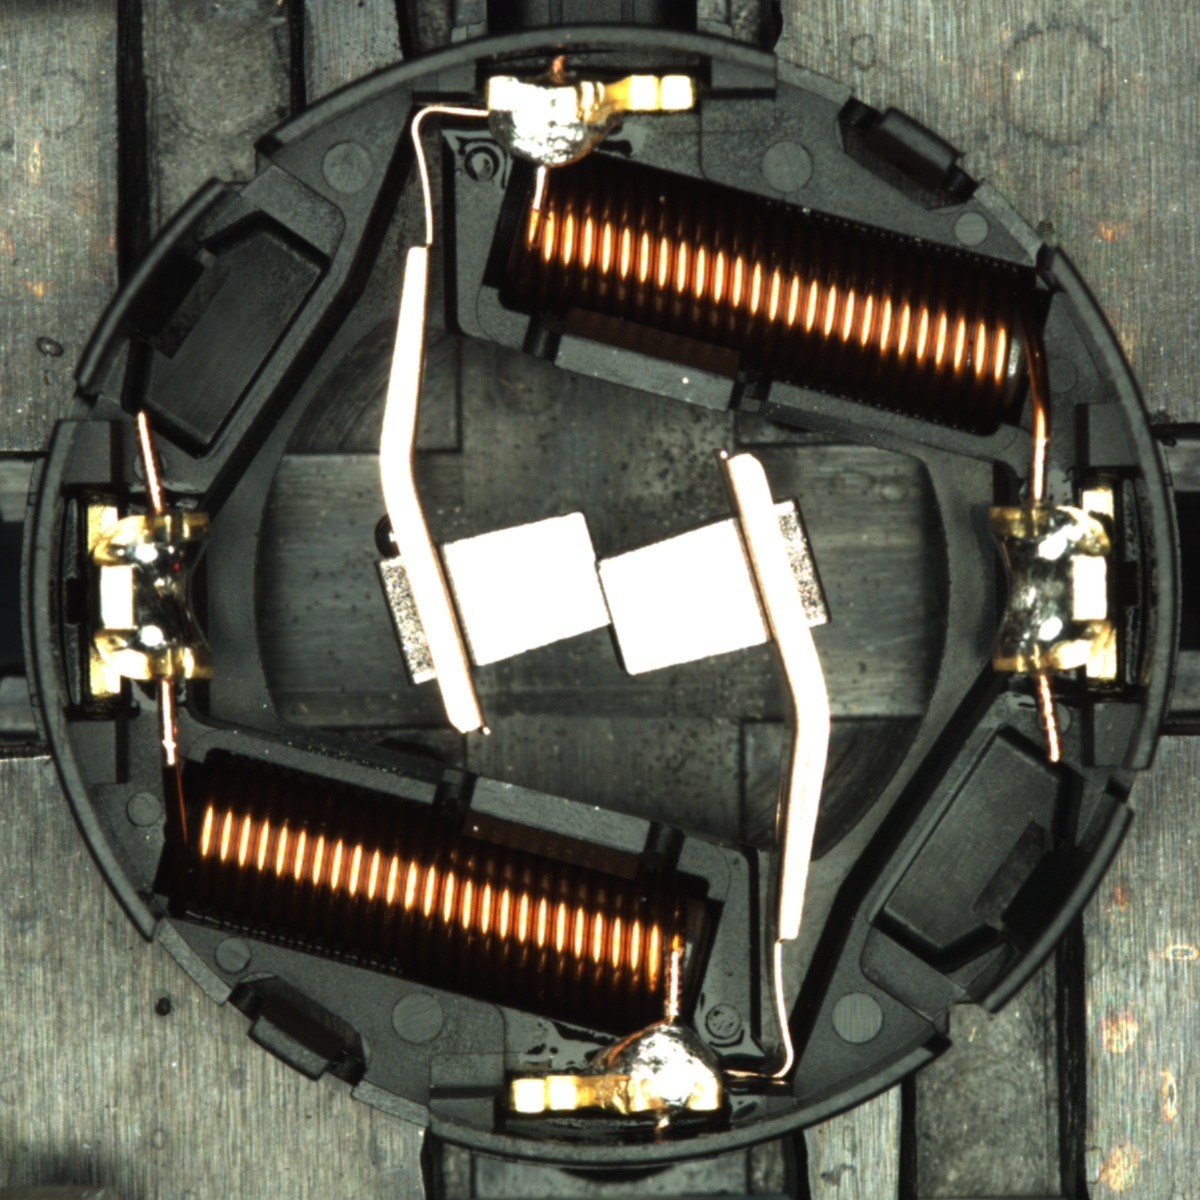1: (256, 31, 485, 256), (714, 929, 943, 1153)
2: (714, 31, 943, 256), (256, 929, 485, 1153)
3: (26, 256, 256, 480), (943, 704, 1173, 929)
4: (256, 256, 485, 480), (714, 704, 943, 929)
5: (485, 143, 714, 368), (485, 816, 714, 1041)
6: (714, 256, 943, 480), (256, 704, 485, 929)
7: (943, 256, 1173, 480), (26, 704, 256, 929)
cacbon: (402, 498, 797, 687)
chau_dien: (981, 487, 1122, 686), (81, 497, 220, 697)
hat_chi: (375, 511, 402, 557)
tay_choi: (486, 75, 699, 175), (509, 1019, 723, 1118)
thanh_de: (955, 786, 1142, 1031), (62, 166, 244, 404)
